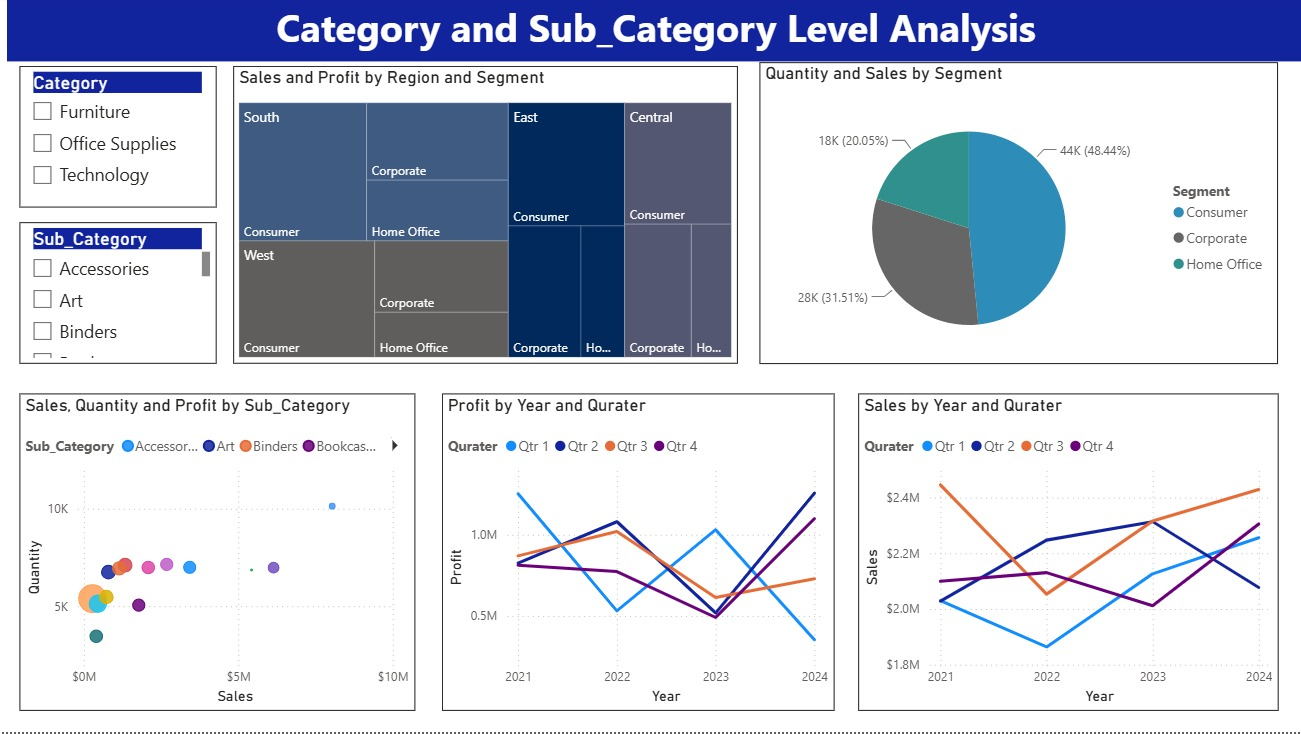

Layout of this report page (visuals, bound fields, positions):
{"tool":"powerbi","page":{"name":"Category and Sub_Category","canvas":[1280,720],"ordinal":2},"visuals":[{"type":"textbox","box":[10,0,280,280],"z":0},{"type":"textbox","box":[10,0,1270,63.8],"z":1000},{"type":"slicer","fields":{"Values":["Data Cleaning (2).Category"]},"box":[22.5,68.8,192.5,138.8],"z":2000},{"type":"slicer","fields":{"Values":["Data Cleaning (2).Sub_Category"]},"box":[22.5,221.2,192.5,138.8],"z":3000},{"type":"treemap","fields":{"Group":["Data Cleaning (2).Region"],"Details":["Data Cleaning (2).Segment"],"Values":["Sum(Data Cleaning (2).Sales)"]},"box":[231.2,68.8,493.8,291.2],"z":4000},{"type":"pieChart","fields":{"Category":["Data Cleaning (2).Segment"],"Y":["Sum(Data Cleaning (2).Quantity)"]},"box":[746.2,65,507.5,295],"z":5000},{"type":"scatterChart","fields":{"Series":["Data Cleaning (2).Sub_Category"],"X":["Sum(Data Cleaning (2).Sales)"],"Y":["Sum(Data Cleaning (2).Quantity)"],"Size":["Sum(Data Cleaning (2).Profit)"]},"box":[22.5,388.8,387.5,310],"z":6000},{"type":"lineChart","fields":{"Category":["Data Cleaning (2).Year"],"Series":["Data Cleaning (2).Qurater"],"Y":["Sum(Data Cleaning (2).Profit)"]},"box":[435,388.8,383.8,310],"z":7000},{"type":"lineChart","fields":{"Category":["Data Cleaning (2).Year"],"Series":["Data Cleaning (2).Qurater"],"Y":["Sum(Data Cleaning (2).Sales)"]},"box":[842.5,388.8,411.2,310],"z":8000}]}

Visuals, with their boxes in screenshot pixels (x1, y1, x2, y2), scaled from the page's 1280x720 canvas onto the 1301x734 screenshot:
textbox: 10, 0, 295, 285
textbox: 10, 0, 1300, 65
slicer - Data Cleaning (2).Category: 23, 70, 219, 212
slicer - Data Cleaning (2).Sub_Category: 23, 226, 219, 367
treemap - Data Cleaning (2).Region x Data Cleaning (2).Segment: 235, 70, 737, 367
pieChart - Data Cleaning (2).Segment x Sum(Data Cleaning (2).Quantity): 758, 66, 1274, 367
scatterChart - Data Cleaning (2).Sub_Category x Sum(Data Cleaning (2).Sales): 23, 396, 417, 712
lineChart - Data Cleaning (2).Year x Data Cleaning (2).Qurater: 442, 396, 832, 712
lineChart - Data Cleaning (2).Year x Data Cleaning (2).Qurater: 856, 396, 1274, 712
